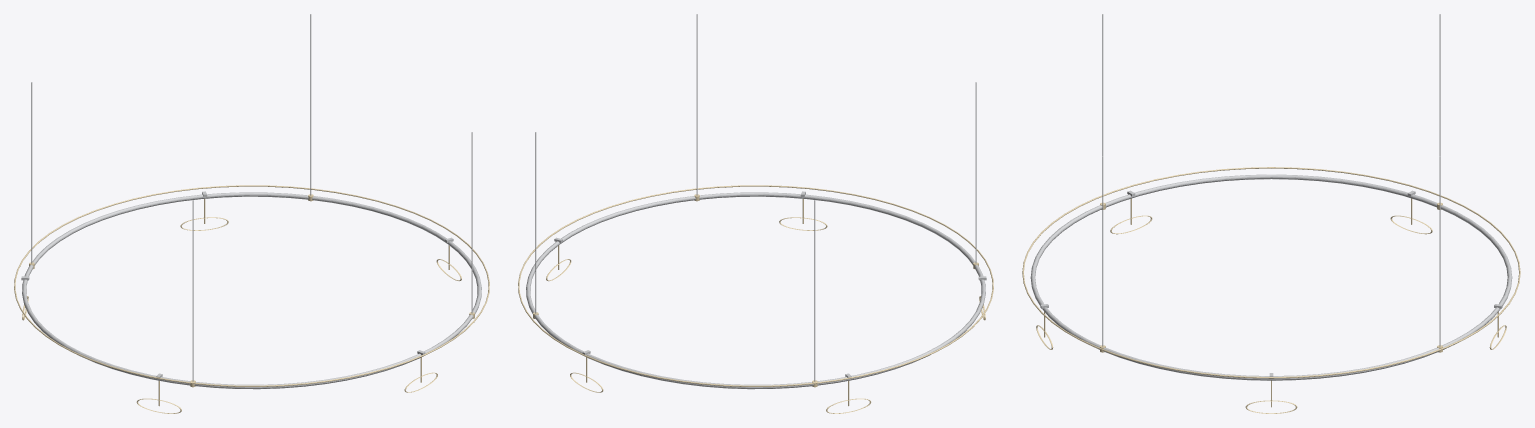
The model's file is circular_rail.glb.
3 renders of one model, left to right at view 1: azimuth 30°, elevation 25°; view 2: azimuth 150°, elevation 25°; view 3: azimuth 270°, elevation 25°, orthographic. The views are drawn at different scales.
Parts seen in each view (by area): view 1: Suspension_Ring_Rail, Accent_Ring; view 2: Suspension_Ring_Rail, Accent_Ring; view 3: Suspension_Ring_Rail, Accent_Ring.
Boxes of the visible parts, <box> form: Suspension_Ring_Rail: <box>22,192,481,389</box>; Accent_Ring: <box>14,185,489,386</box>; Suspension_Ring_Rail: <box>526,192,985,389</box>; Accent_Ring: <box>518,185,993,386</box>; Suspension_Ring_Rail: <box>1030,174,1512,380</box>; Accent_Ring: <box>1022,167,1520,378</box>.
Size of the model in its own units: 7.52 by 3.79 by 7.52.
